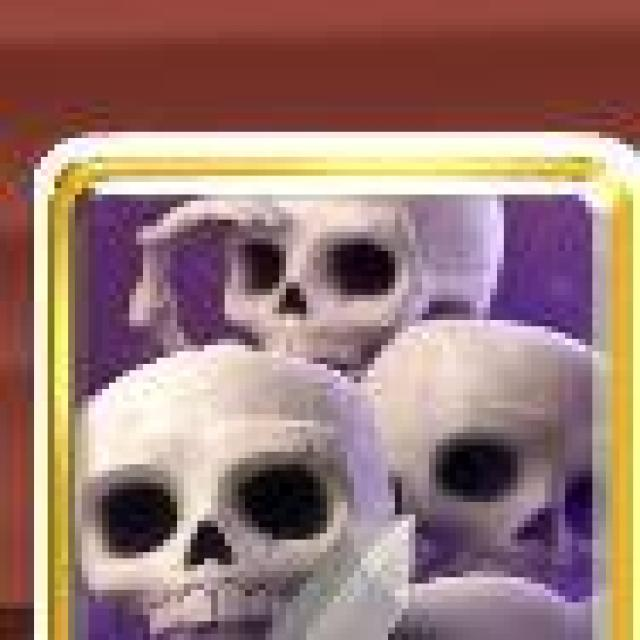Skeleton_Army: (41, 134, 640, 640)
